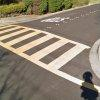Crosswalk: (4, 16, 91, 80)
